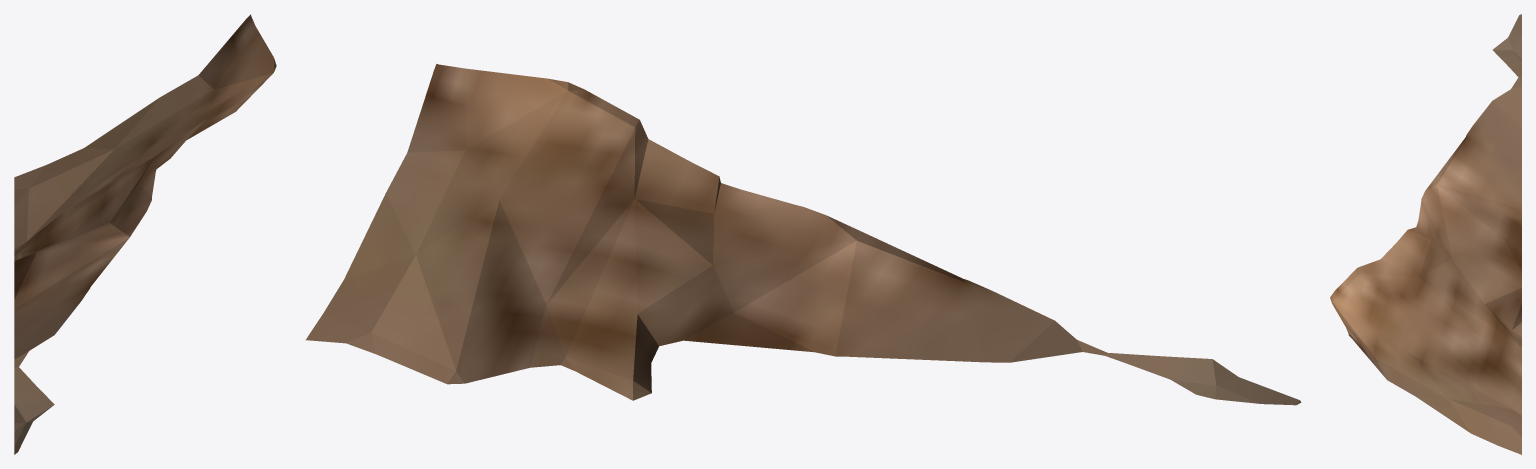
The picture shows the model from 3 angles, left to right: view 1: azimuth 90°, elevation 25°; view 2: azimuth 150°, elevation 25°; view 3: azimuth 270°, elevation 25°; orthographic projection. The views are drawn at different scales.
Bounding box in the file's own units: 0.4688 × 0.0855 × 0.1182.
Materials: 1 (1 with a texture image).
